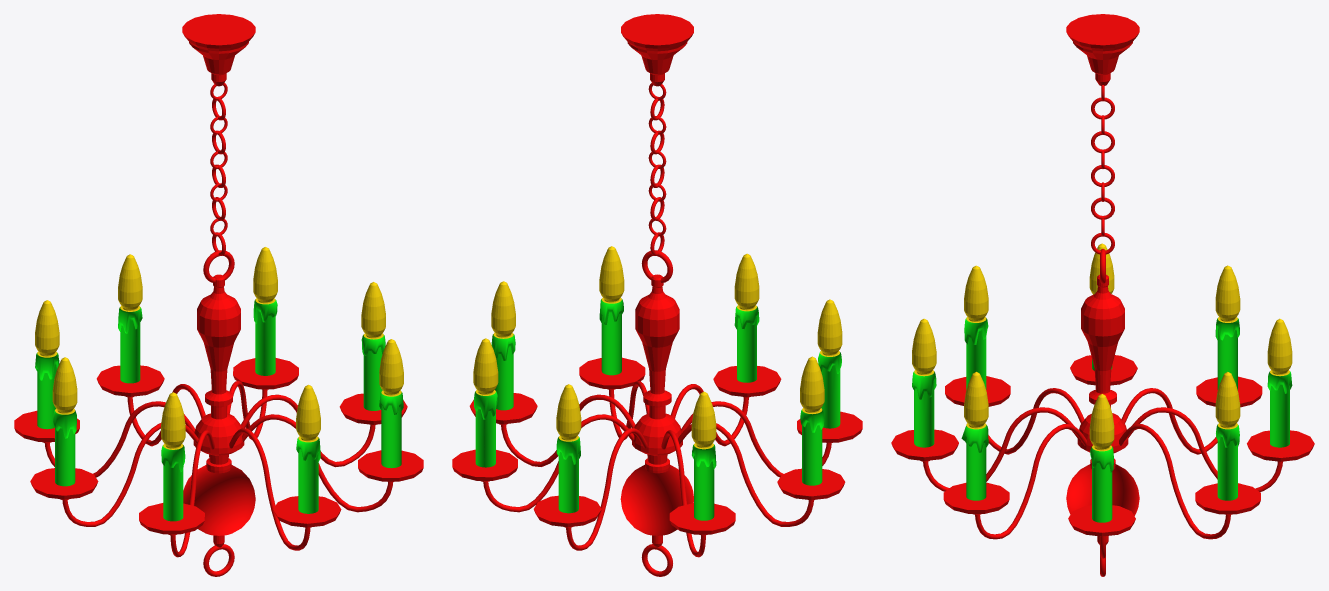
Rendered from lustrepute.FBX.
3 renders of one model, left to right at view 1: azimuth 30°, elevation 25°; view 2: azimuth 150°, elevation 25°; view 3: azimuth 270°, elevation 25°, orthographic.
Visible parts, largest first — view 1: lustrepute001; view 2: lustrepute001; view 3: lustrepute001.
Boxes of the visible parts, x1,y1,x2,y2 form: lustrepute001: [14, 14, 423, 576]; lustrepute001: [452, 14, 862, 576]; lustrepute001: [891, 14, 1314, 576].
Size of the model in its own units: 63.82 by 90.7 by 63.82.
